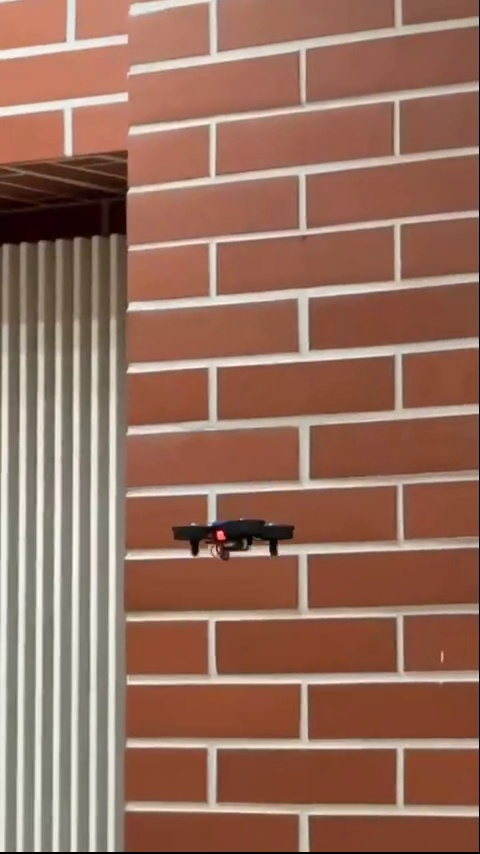drone: (162, 516, 300, 562)
